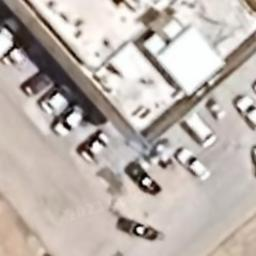SUV: (234, 93, 256, 131)
sedan: (51, 100, 93, 138), (38, 78, 78, 116), (19, 65, 64, 98), (174, 145, 212, 183), (115, 213, 159, 243), (125, 160, 161, 195), (77, 128, 110, 164)
unknown: (1, 16, 26, 68)
van: (180, 110, 218, 146)
